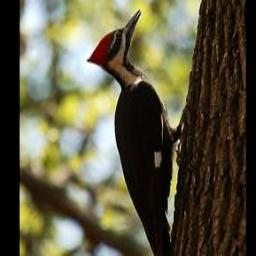Woodpecker: (87, 8, 199, 256)
